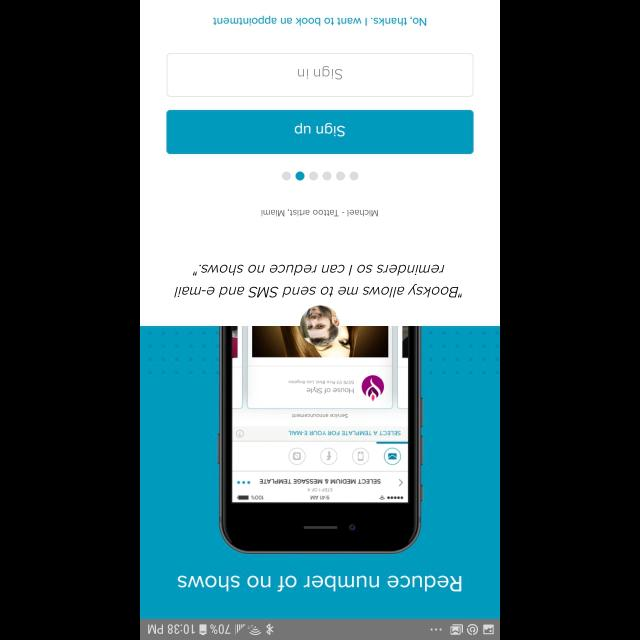image: (217, 326, 423, 554), (300, 306, 340, 346)
pageindicator: (282, 171, 358, 181)
text: (175, 264, 462, 298), (178, 574, 462, 592), (212, 16, 426, 27), (262, 209, 378, 217)
textbutton: (166, 53, 474, 97), (166, 110, 474, 154)
uppertaskbar: (140, 618, 500, 640)
